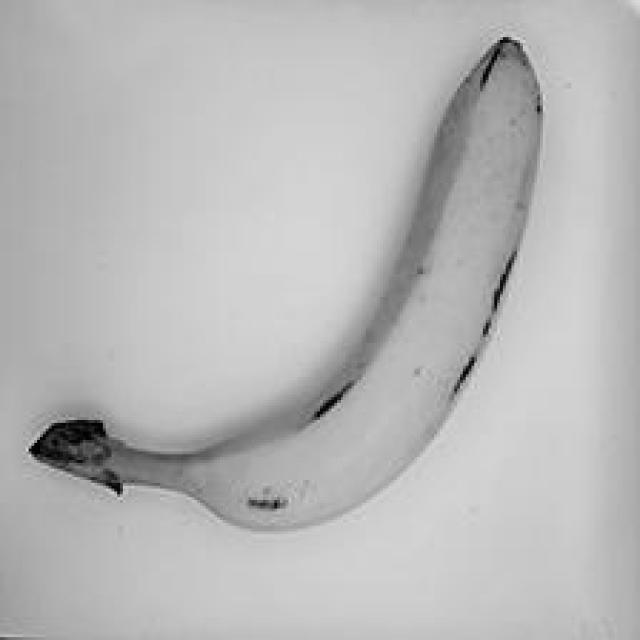Ripe: (34, 34, 562, 543)
